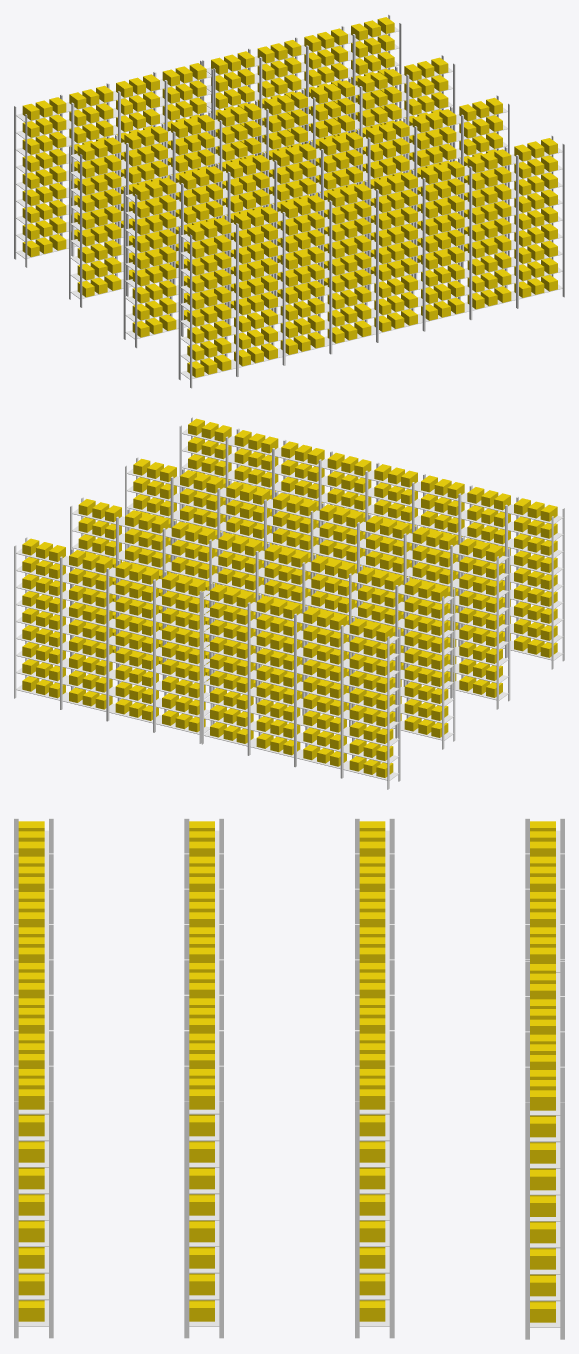
The model's file is estoque_teste.glb.
3 renders of one model, top to bottom at view 1: azimuth 30°, elevation 25°; view 2: azimuth 150°, elevation 25°; view 3: azimuth 270°, elevation 25°, orthographic. The views are drawn at different scales.
Parts seen in each view (by area): view 1: no part large enough to name; view 2: no part large enough to name; view 3: 66353 (×4), 66352 (×4).
Boxes of the visible parts, x1,y1,x2,y2 form: 66353 (×4): (14, 1101, 529, 1339); 66352 (×4): (49, 1101, 564, 1339).
Bounding box in the file's own units: 15.42 × 6.04 × 12.64.
